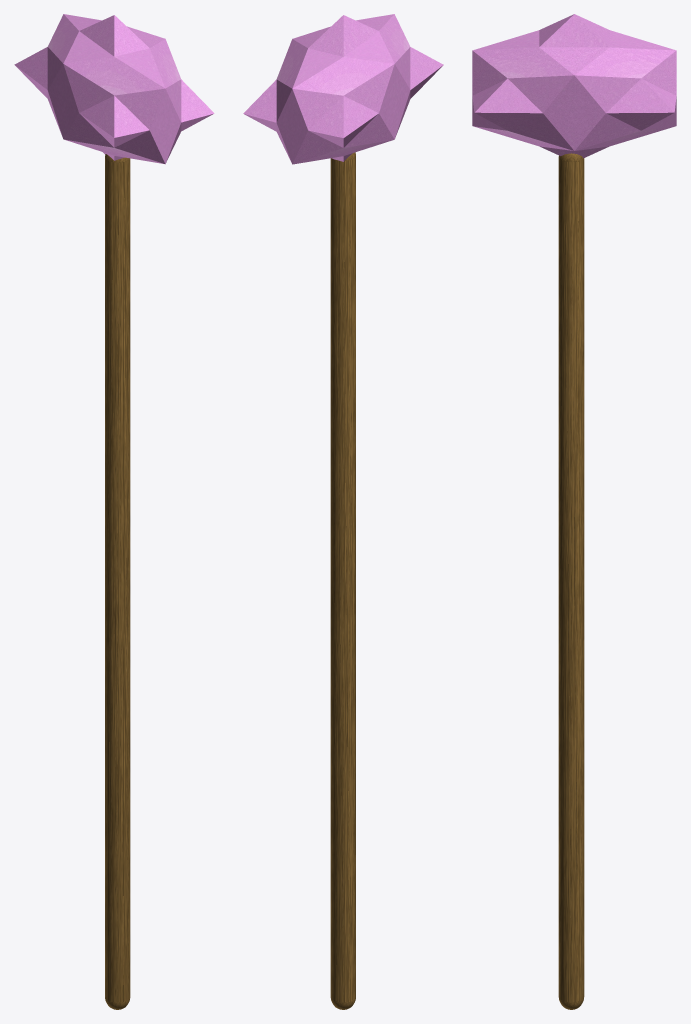
File: staff.FBX
3 renders of one model, left to right at view 1: azimuth 30°, elevation 25°; view 2: azimuth 150°, elevation 25°; view 3: azimuth 270°, elevation 25°, orthographic.
Parts seen in each view (by area): view 1: Capsule001, Hedra001; view 2: Capsule001, Hedra001; view 3: Capsule001, Hedra001.
Boxes of the visible parts, <box> form: Capsule001: <box>105,154,130,1009</box>; Hedra001: <box>14,14,214,164</box>; Capsule001: <box>330,152,355,1009</box>; Hedra001: <box>243,14,443,164</box>; Capsule001: <box>558,153,584,1009</box>; Hedra001: <box>472,14,676,158</box>.
Size of the model in its own units: 18.59 by 173 by 32.13.
Materials: 2 (2 with a texture image).
